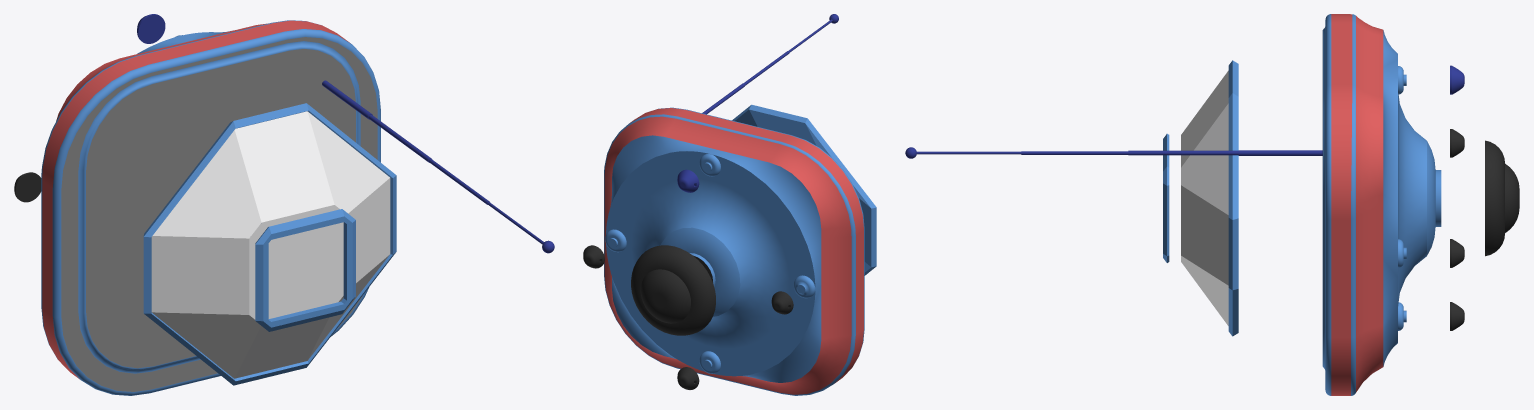
Rendered from Oxygen v6.obj.
3 renders of one model, left to right at view 1: azimuth 30°, elevation 25°; view 2: azimuth 150°, elevation 25°; view 3: azimuth 270°, elevation 25°, orthographic. The views are drawn at different scales.
Parts seen in each view (by area): view 1: Body1, Body8, Body9, Body7, Body5, Body4; view 2: Body1, Body6, Body8, Body7, Body4, Body5, Body3, Body2; view 3: Body1, Body8, Body6, Body7, Body9.
Part boxes in pixels (<box>): Body1: <box>41,20,380,395</box>; Body8: <box>143,103,396,385</box>; Body9: <box>255,209,355,331</box>; Body7: <box>322,80,554,253</box>; Body5: <box>137,14,165,43</box>; Body4: <box>14,172,41,202</box>; Body1: <box>604,107,864,395</box>; Body6: <box>631,245,715,335</box>; Body8: <box>732,104,876,275</box>; Body7: <box>702,14,838,114</box>; Body4: <box>771,291,793,314</box>; Body5: <box>677,169,699,192</box>; Body3: <box>583,245,604,268</box>; Body2: <box>677,367,699,389</box>; Body1: <box>1322,14,1441,395</box>; Body8: <box>1181,60,1238,336</box>; Body6: <box>1485,140,1519,256</box>; Body7: <box>905,147,1322,158</box>; Body9: <box>1163,133,1169,262</box>.
Bounding box in the file's own units: 12 × 11.5 × 21.2.
